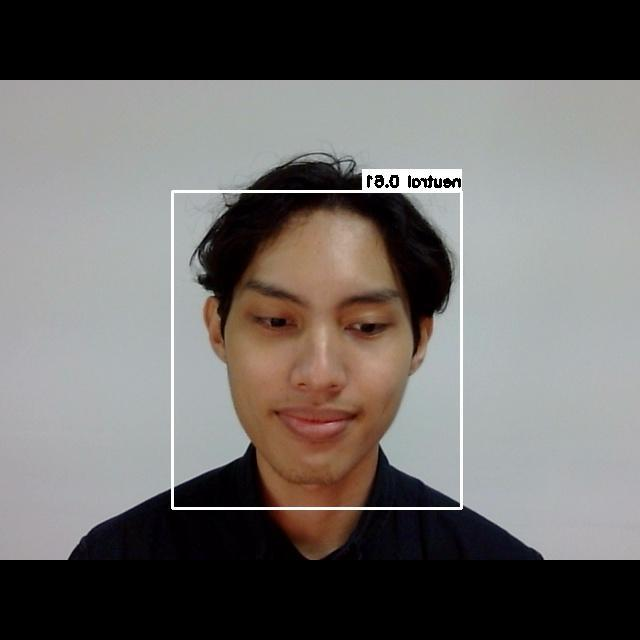Happy: (221, 258, 431, 469)
